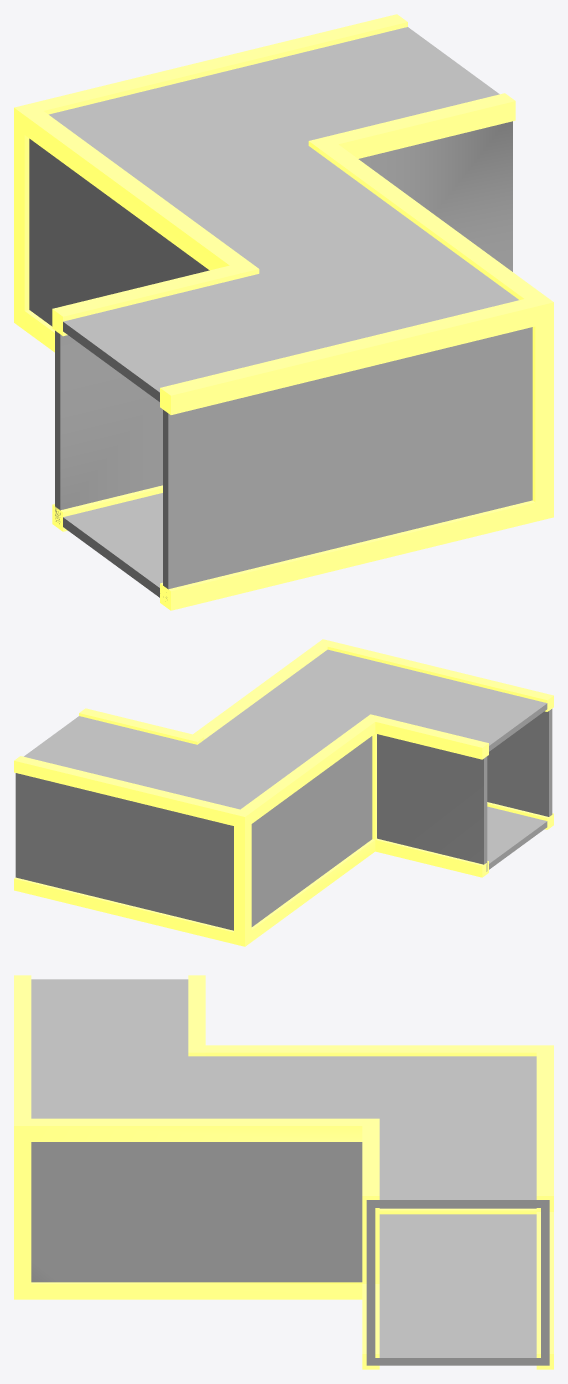
3 renders of one model, top to bottom at view 1: azimuth 30°, elevation 25°; view 2: azimuth 150°, elevation 25°; view 3: azimuth 270°, elevation 25°, orthographic. The views are drawn at different scales.
Visible parts, largest first — view 1: Wall, Light; view 2: Wall, Light; view 3: Wall, Light.
Boxes of the visible parts, x1=… form: Wall: x1=29, y1=27, x2=532, y2=598; Light: x1=14, y1=14, x2=553, y2=610; Wall: x1=15, y1=649, x2=552, y2=930; Light: x1=14, y1=639, x2=553, y2=946; Wall: x1=31, y1=979, x2=549, y2=1365; Light: x1=14, y1=975, x2=553, y2=1369.
Bounding box in the file's own units: 60 × 22 × 62.
